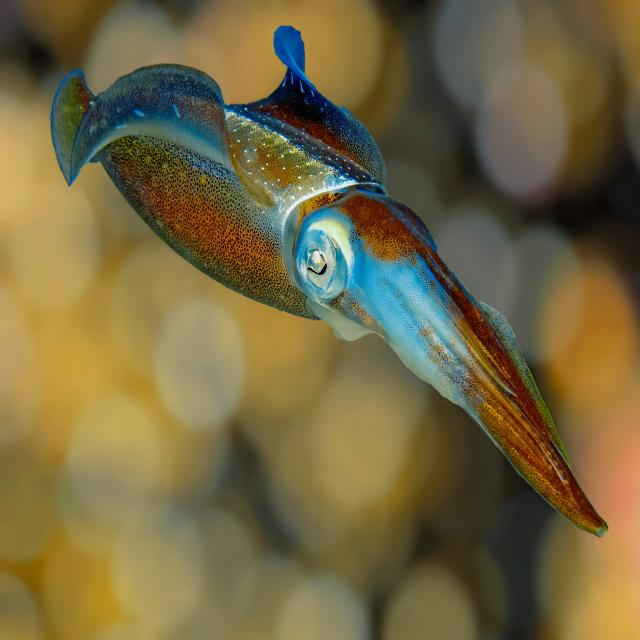SQUID: (38, 45, 640, 518)
